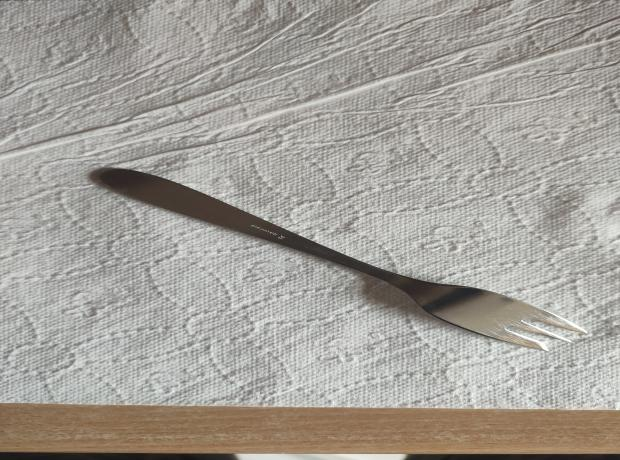metal: (89, 167, 590, 353)
